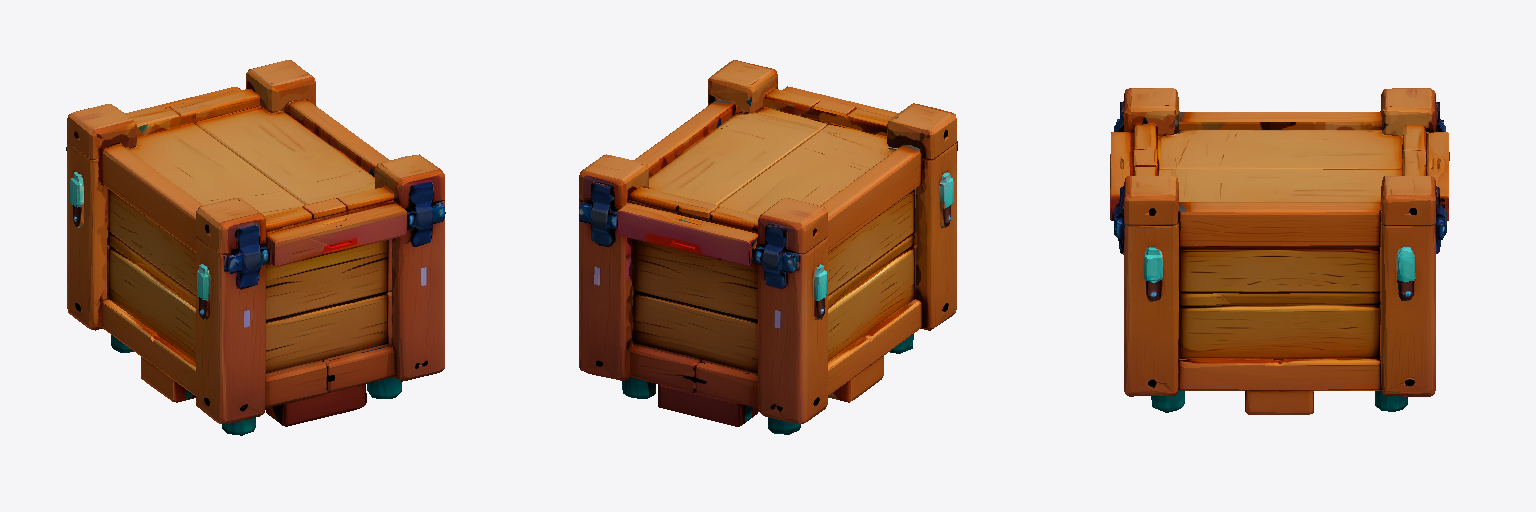
3 renders of one model, left to right at view 1: azimuth 30°, elevation 25°; view 2: azimuth 150°, elevation 25°; view 3: azimuth 270°, elevation 25°, orthographic.
Visible parts, largest first — view 1: 0_1234_50_5.0_256_8000; view 2: 0_1234_50_5.0_256_8000; view 3: 0_1234_50_5.0_256_8000.
Part boxes in pixels (left/top/right/bottom): 0_1234_50_5.0_256_8000: left=66, top=60, right=445, bottom=435; 0_1234_50_5.0_256_8000: left=579, top=60, right=957, bottom=434; 0_1234_50_5.0_256_8000: left=1110, top=88, right=1449, bottom=414.
Bounding box in the file's own units: 1.62 × 1.49 × 1.99.
1 materials, 1 textured.